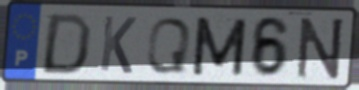6: (246, 15, 294, 80)
D: (37, 11, 95, 77)
K: (97, 13, 139, 76)
M: (189, 15, 250, 78)
N: (295, 16, 347, 81)
Q: (143, 15, 194, 76)
